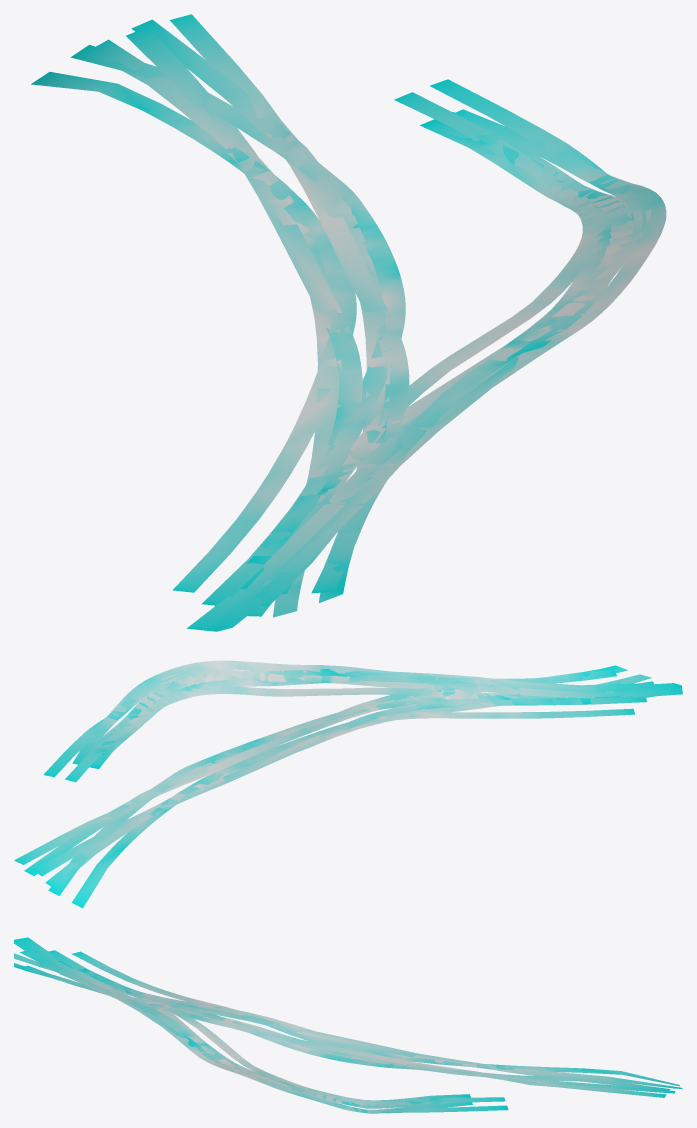
3 renders of one model, top to bottom at view 1: azimuth 30°, elevation 25°; view 2: azimuth 150°, elevation 25°; view 3: azimuth 270°, elevation 25°, orthographic. The views are drawn at different scales.
Parts seen in each view (by area): view 1: SpaceCenter_Long3_GenerateRoad_Sand_TireTracks_Narrow_Mesh_x; view 2: SpaceCenter_Long3_GenerateRoad_Sand_TireTracks_Narrow_Mesh_x; view 3: SpaceCenter_Long3_GenerateRoad_Sand_TireTracks_Narrow_Mesh_x.
Boxes of the visible parts, box(x1,y1,x2,y2) form: SpaceCenter_Long3_GenerateRoad_Sand_TireTracks_Narrow_Mesh_x: box(31, 14, 666, 631); SpaceCenter_Long3_GenerateRoad_Sand_TireTracks_Narrow_Mesh_x: box(14, 660, 682, 908); SpaceCenter_Long3_GenerateRoad_Sand_TireTracks_Narrow_Mesh_x: box(14, 937, 682, 1113).
Size of the model in its own units: 1223 by 805 by 110.
